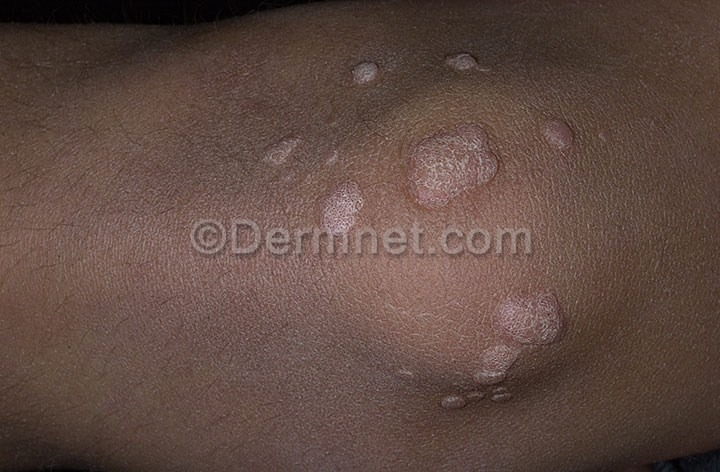Warts: (428, 276, 575, 419), (390, 115, 507, 212), (525, 110, 595, 167), (245, 121, 316, 176), (337, 52, 395, 105), (439, 41, 492, 90)
